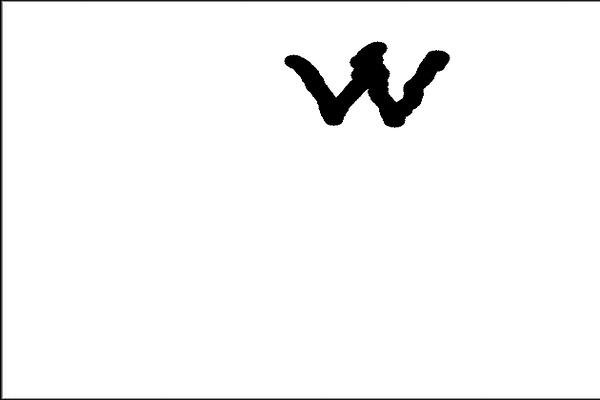w: (265, 28, 460, 147)
